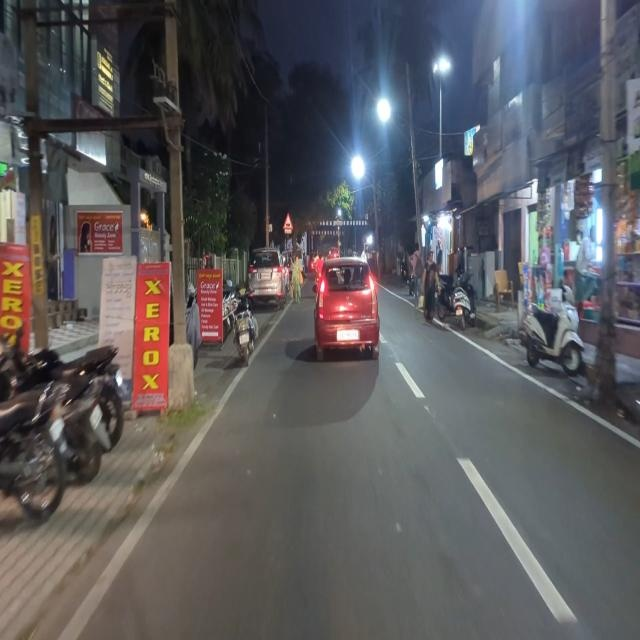bien_nguy_hiem: (283, 212, 293, 230)
